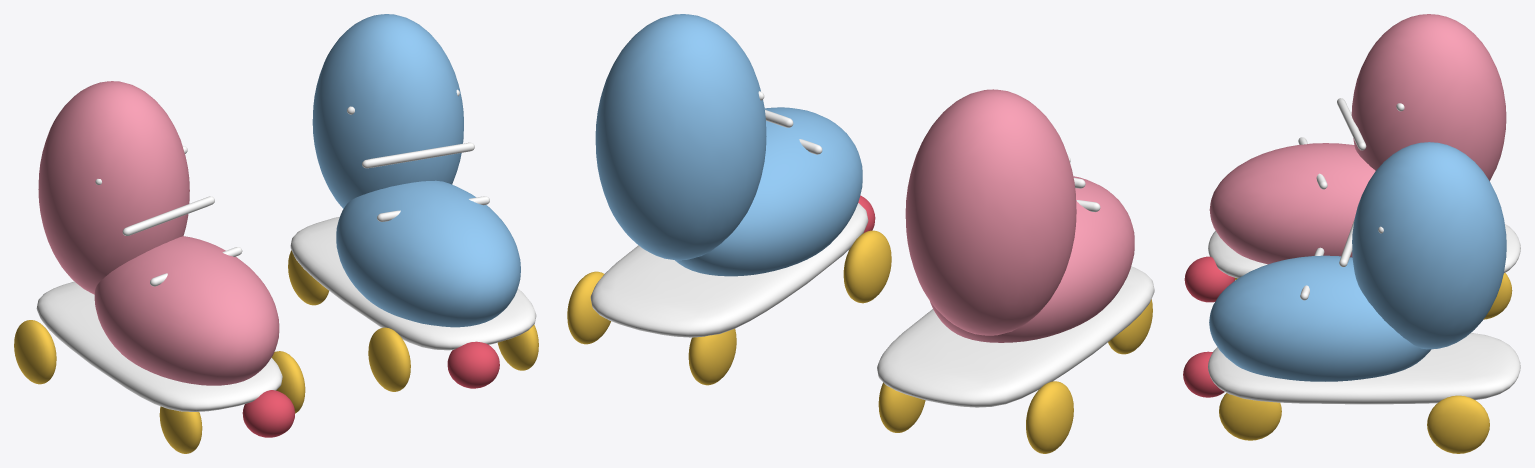
Rendered from deco_patines.glb.
3 views of the same model, side by side, from view 1: azimuth 30°, elevation 25°; view 2: azimuth 150°, elevation 25°; view 3: azimuth 270°, elevation 25° (orthographic). The views are drawn at different scales.
Parts seen in each view (by area): view 1: bota 0.001, bota 1.001, pie patín 1.001, pie patín 0.001, suela patín 0.001, suela patín 1.001, rueda patín 01-1.001, rueda patín 10-1.001, freno 1.001, freno 0.001, rueda patín 00-1.001, rueda patín 101.001 (+4 smaller); view 2: bota 0.001, bota 1.001, pie patín 1.001, suela patín 0.001, suela patín 1.001, pie patín 0.001, rueda patín 10-1.001, rueda patín 01-1.001, rueda patín 11-1.001, rueda patín 111.001, rueda patín 011.001, rueda patín 00-1.001; view 3: bota 1.001, pie patín 1.001, bota 0.001, pie patín 0.001, suela patín 1.001, rueda patín 111.001, rueda patín 101.001, suela patín 0.001, freno 0.001, freno 1.001, rueda patín 011.001, cordón 01.001.
Boxes of the visible parts, x1,y1,x2,y2 form: bota 0.001: [38, 81, 189, 294]; bota 1.001: [312, 14, 463, 208]; pie patín 1.001: [336, 180, 520, 327]; pie patín 0.001: [94, 236, 279, 385]; suela patín 0.001: [36, 281, 282, 411]; suela patín 1.001: [290, 217, 536, 350]; rueda patín 01-1.001: [14, 320, 56, 384]; rueda patín 10-1.001: [368, 327, 410, 391]; freno 1.001: [447, 341, 499, 388]; freno 0.001: [242, 390, 294, 437]; rueda patín 00-1.001: [159, 406, 202, 453]; rueda patín 101.001: [497, 324, 538, 370]; bota 0.001: [905, 89, 1076, 335]; bota 1.001: [595, 14, 766, 260]; pie patín 1.001: [675, 107, 862, 276]; suela patín 0.001: [877, 266, 1154, 407]; suela patín 1.001: [590, 203, 868, 337]; pie patín 0.001: [930, 176, 1134, 342]; rueda patín 10-1.001: [843, 230, 891, 303]; rueda patín 01-1.001: [1026, 381, 1073, 453]; rueda patín 11-1.001: [688, 328, 736, 385]; rueda patín 111.001: [567, 271, 610, 344]; rueda patín 011.001: [878, 382, 925, 432]; rueda patín 00-1.001: [1108, 299, 1152, 354]; bota 1.001: [1352, 142, 1506, 349]; pie patín 1.001: [1209, 255, 1431, 381]; bota 0.001: [1351, 14, 1506, 180]; pie patín 0.001: [1209, 143, 1375, 264]; suela patín 1.001: [1208, 333, 1520, 404]; rueda patín 111.001: [1427, 395, 1489, 453]; rueda patín 101.001: [1219, 393, 1281, 440]; suela patín 0.001: [1208, 224, 1520, 278]; freno 0.001: [1184, 256, 1234, 302]; freno 1.001: [1183, 351, 1224, 397]; rueda patín 011.001: [1483, 273, 1512, 319]; cordón 01.001: [1337, 98, 1366, 150].
Size of the model in its own units: 0.3623 by 0.2324 by 0.2569.
